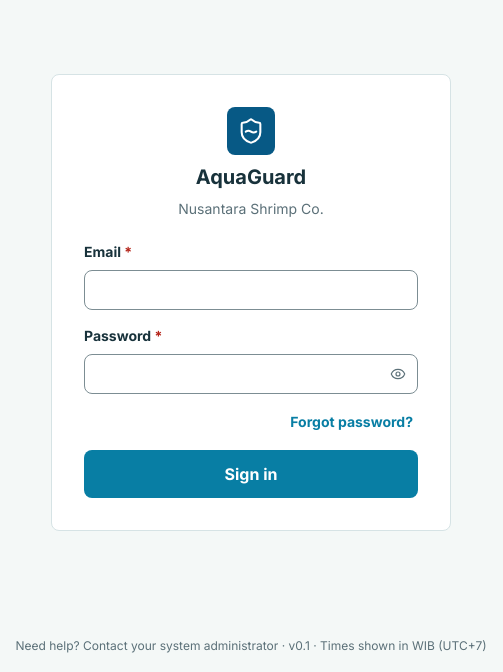
Test: Role guard and sign-in (SCR-COM-001/002, AU-01) › shows remaining attempts, then locks after 5 failures
Type "sari.wijaya@nusantarashrimp.co.id" into the field labelled "Email *" at (251, 290), box top-left (84, 270), bottom-right (418, 310)
Type "wrong-password" into the password field labelled "Password *" at (251, 374), box top-left (84, 354), bottom-right (418, 394)
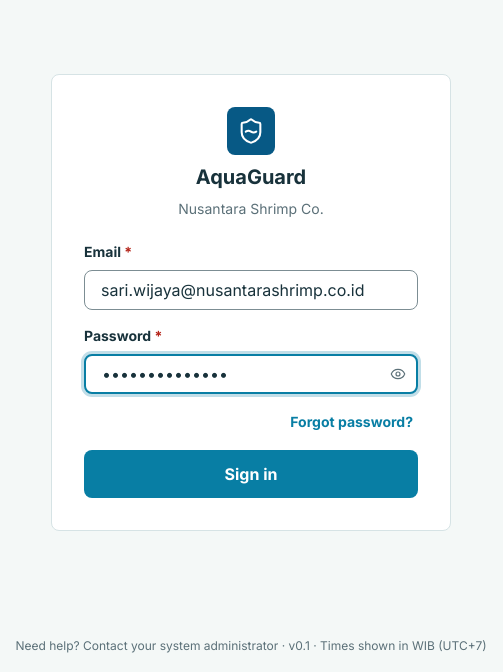
Click the button "Sign in" at (251, 474), box top-left (84, 450), bottom-right (418, 498)
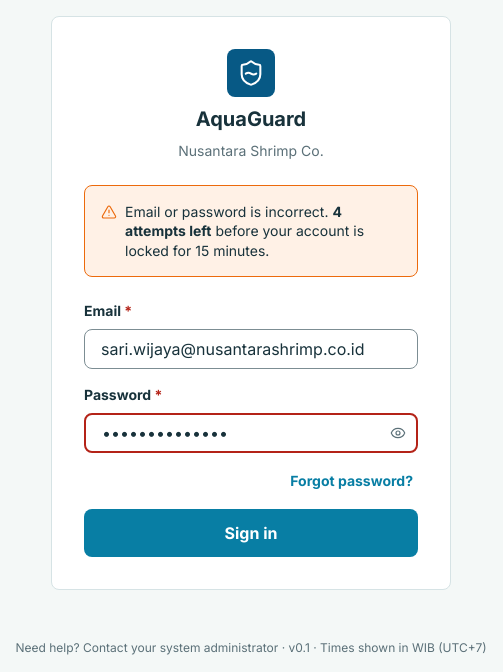
Now the text "4 attempts left" is shown, box top-left (125, 203), bottom-right (342, 239)
Click the button "Sign in" at (251, 533), box top-left (84, 509), bottom-right (418, 557)
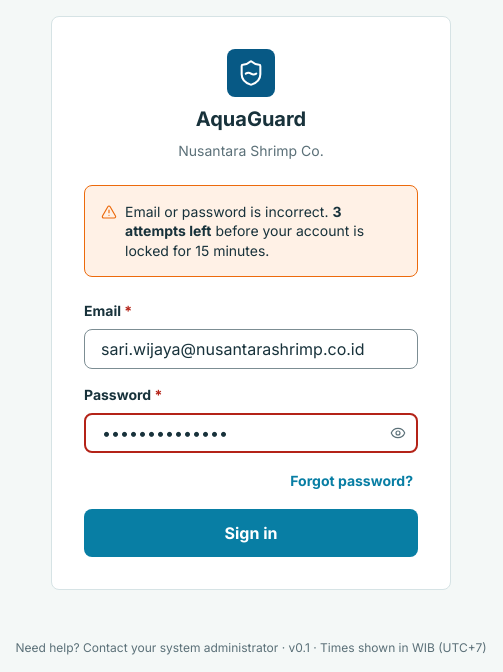
Click the button "Sign in" at (251, 533), box top-left (84, 509), bottom-right (418, 557)
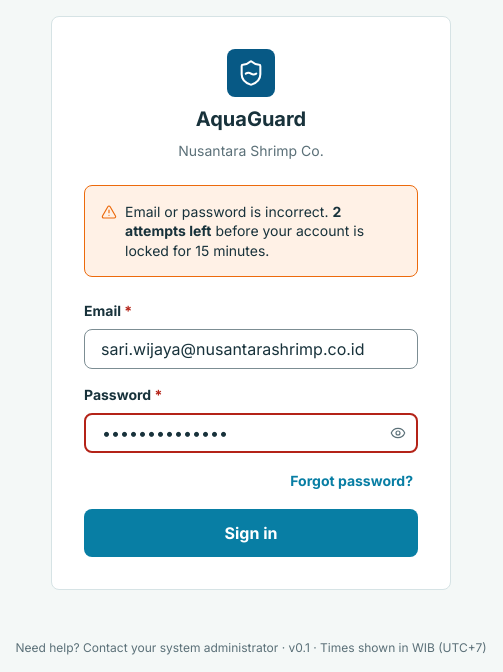
Click the button "Sign in" at (251, 533), box top-left (84, 509), bottom-right (418, 557)
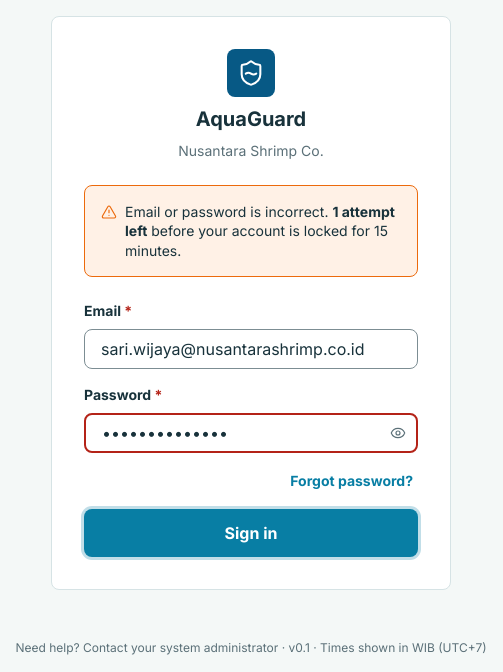
Click the button "Sign in" at (251, 533), box top-left (84, 509), bottom-right (418, 557)
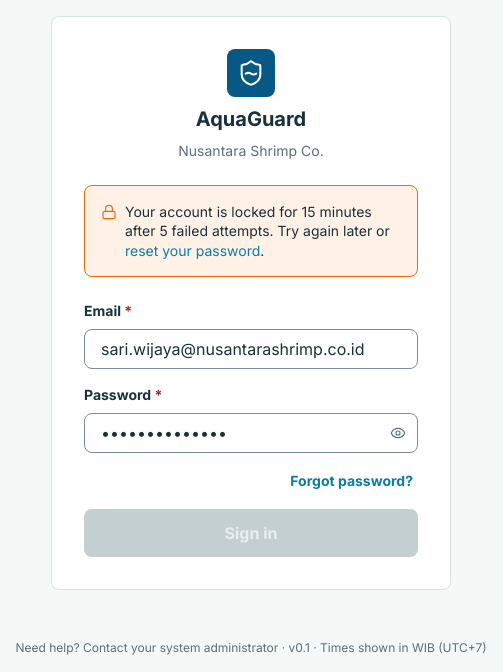
Now the text "locked for 15 minutes after 5 failed attempts" is shown, box top-left (125, 203), bottom-right (390, 239)
Now the button "Sign in" is disabled, box top-left (84, 509), bottom-right (418, 557)
